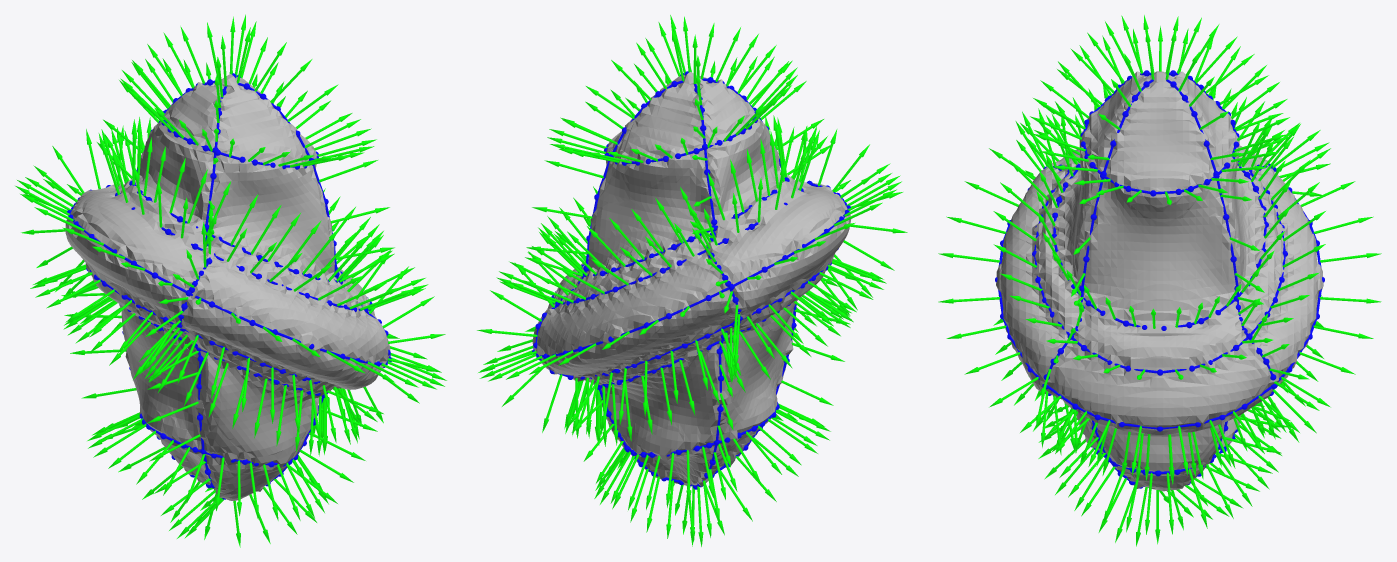
Rendered from flowrep_ellipsetorus.gltf.
The picture shows the model from 3 angles, left to right: view 1: azimuth 30°, elevation 25°; view 2: azimuth 150°, elevation 25°; view 3: azimuth 270°, elevation 25°; orthographic projection.
Bounding box in the file's own units: 0.6573 × 0.8995 × 0.6986.
